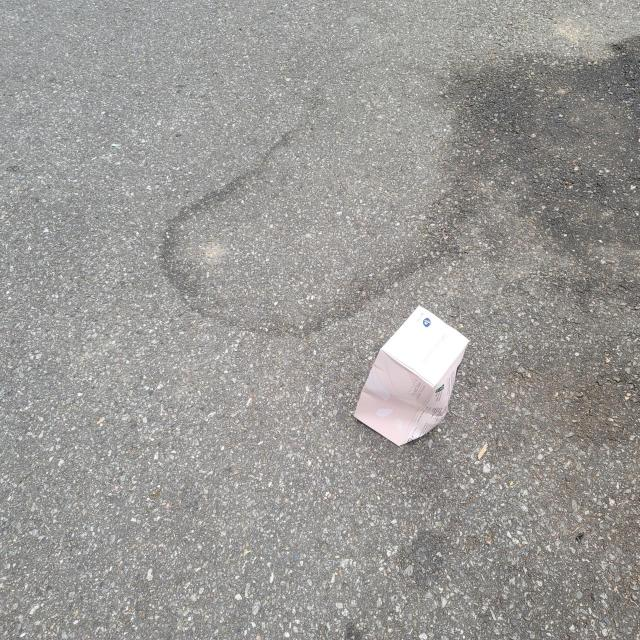paperpack: (354, 306, 470, 446)
